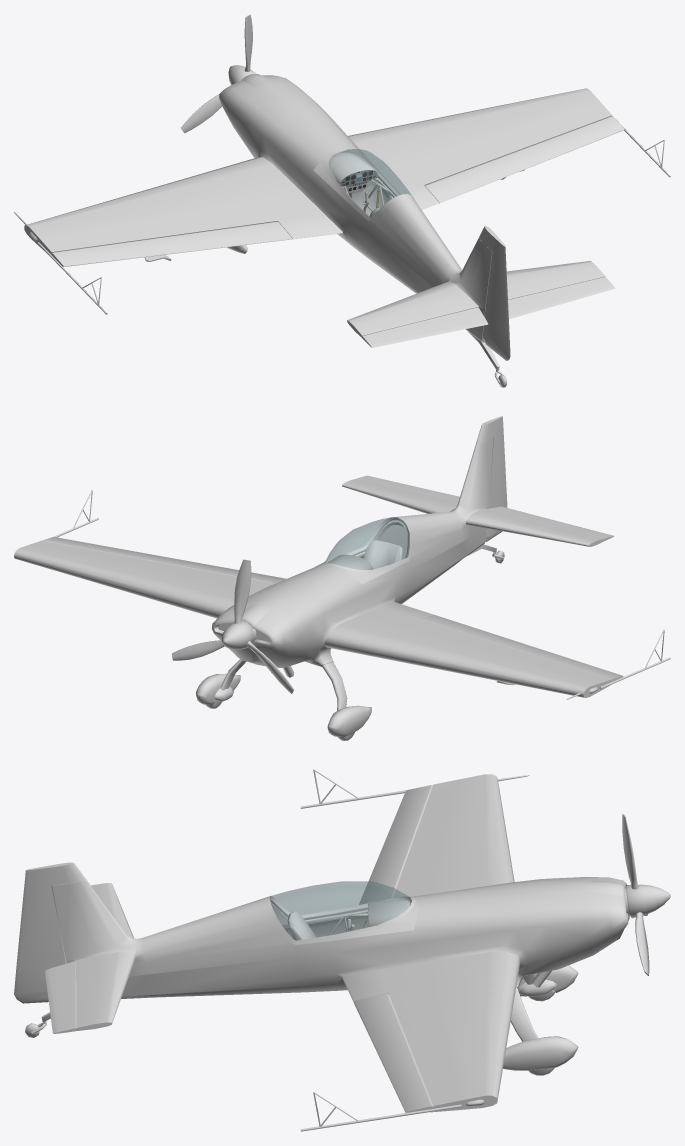
File: BGEAR_plane.fbx
The picture shows the model from 3 angles, top to bottom: view 1: azimuth 30°, elevation 25°; view 2: azimuth 150°, elevation 25°; view 3: azimuth 270°, elevation 25°; orthographic projection. The views are drawn at different scales.
Visible parts, largest first — view 1: chassis, aileron_l, aileron_r, elevator, glass, rudder, cockpit, propeller, canopy_chassis; view 2: chassis, glass, cockpit, propeller, aileron_l, rudder, aileron_r, elevator, canopy_chassis, propeller_hub; view 3: chassis, glass, rudder, aileron_r, aileron_l, cockpit, elevator, canopy_chassis, propeller, propeller_hub, canopy_cockpit.
Boxes of the visible parts, x1,y1,x2,y2 form: chassis: (14, 74, 670, 370); aileron_l: (50, 221, 292, 267); aileron_r: (424, 116, 624, 203); elevator: (362, 276, 615, 347); glass: (331, 149, 412, 216); rudder: (479, 225, 510, 360); cockpit: (332, 155, 395, 216); propeller: (181, 14, 252, 133); canopy_chassis: (313, 149, 414, 220); chassis: (14, 437, 670, 737); glass: (325, 517, 409, 569); cockpit: (328, 520, 407, 569); propeller: (171, 559, 294, 693); aileron_l: (421, 615, 623, 682); rudder: (476, 416, 507, 541); aileron_r: (42, 537, 285, 582); elevator: (358, 475, 614, 540); canopy_chassis: (315, 517, 411, 583); propeller_hub: (221, 620, 254, 649); chassis: (41, 769, 630, 1131); glass: (270, 881, 411, 940); rudder: (14, 862, 85, 1003); aileron_r: (353, 994, 435, 1112); aileron_l: (359, 785, 432, 904); cockpit: (270, 900, 410, 940); elevator: (45, 961, 77, 1033); canopy_chassis: (265, 896, 419, 944); propeller: (622, 814, 649, 975); propeller_hub: (626, 884, 670, 918); canopy_cockpit: (269, 896, 411, 920).
Bounding box in the file's own units: 6.1 × 1.94 × 5.23.
Materials: 10 (1 with a texture image).
